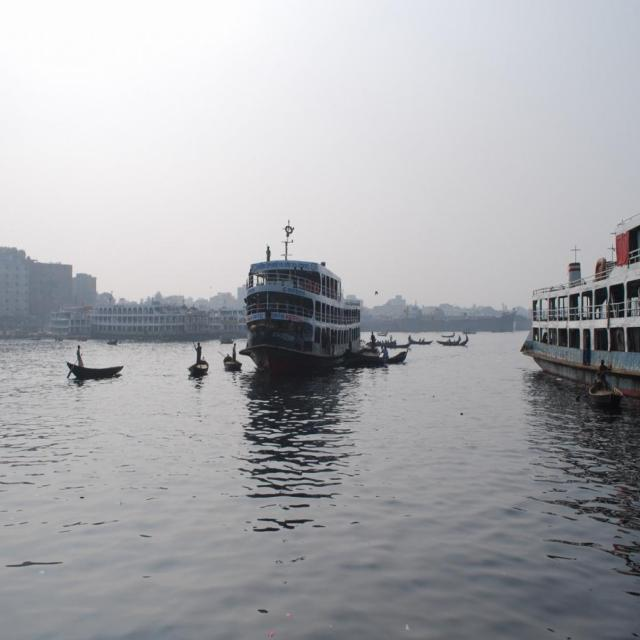passenger ship: (507, 216, 640, 384), (233, 226, 383, 373)
